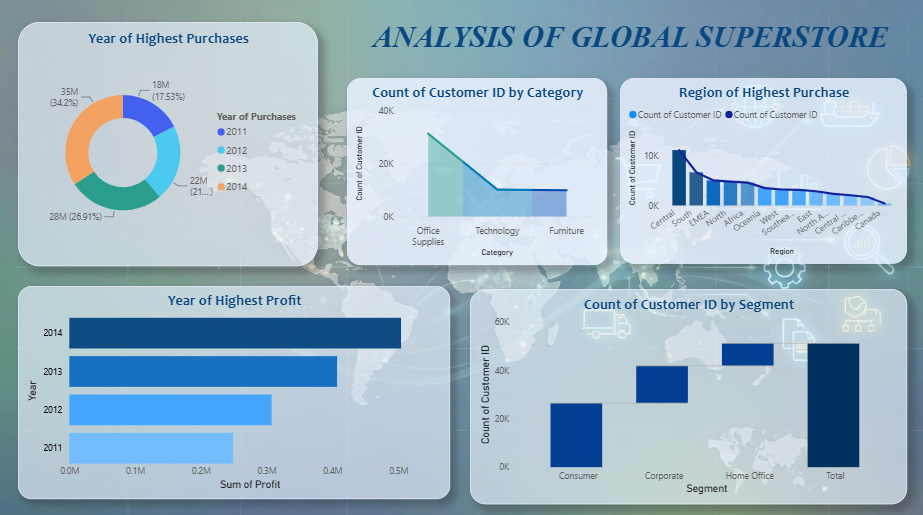

Layout of this report page (visuals, bound fields, positions):
{"tool":"powerbi","page":{"name":"Page 1","canvas":[1280,720],"ordinal":0},"visuals":[{"type":"donutChart","title":"Year of Highest Purchases","fields":{"Y":["Sum(Year_of_purchase(2011).Year)","Sum(Year_of_purchase (2012).Year)","Sum(Year_of_purchase (2013).Year)","Sum(Year_of_purchase (2014).Year)"]},"box":[24.9,37.4,415.1,337.6],"z":0},{"type":"lineStackedColumnComboChart","title":"Region of Highest Purchase","fields":{"Category":["Global Superstore_dataset.Region"],"Y":["CountNonNull(Global Superstore_dataset.Customer ID)"],"Y2":["CountNonNull(Global Superstore_dataset.Customer ID)"]},"box":[857.9,114.9,397.1,257.4],"z":1000},{"type":"areaChart","fields":{"Category":["Global Superstore_dataset.Category"],"Y":["CountNonNull(Global Superstore_dataset.Customer ID)"]},"box":[480,114.3,360,258.6],"z":2000},{"type":"clusteredBarChart","title":"Year of Highest Profit","fields":{"Y":["Sum(Global Superstore_dataset.Profit)"],"Category":["Global Superstore_dataset.Year"]},"box":[24.9,402.7,597.8,294.7],"z":3000},{"type":"waterfallChart","fields":{"Category":["Global Superstore_dataset.Segment"],"Y":["CountNonNull(Global Superstore_dataset.Customer ID)"]},"box":[650.4,406.8,604.7,297.5],"z":4000},{"type":"textbox","title":"ANALYSIS OF GLOBAL SUPERSTORE","box":[482.9,34.3,778.6,51.4],"z":5000}]}

Visuals, with their boxes in screenshot pixels (x1, y1, x2, y2), scaled from the page's 1280x720 canvas onto the 923x515 screenshot:
"Year of Highest Purchases" donutChart: x1=18 y1=27 x2=317 y2=268
"Region of Highest Purchase" lineStackedColumnComboChart: x1=619 y1=82 x2=905 y2=266
areaChart - Global Superstore_dataset.Category x CountNonNull(Global Superstore_dataset.Customer ID): x1=346 y1=82 x2=606 y2=267
"Year of Highest Profit" clusteredBarChart: x1=18 y1=288 x2=449 y2=499
waterfallChart - Global Superstore_dataset.Segment x CountNonNull(Global Superstore_dataset.Customer ID): x1=469 y1=291 x2=905 y2=504
"ANALYSIS OF GLOBAL SUPERSTORE" textbox: x1=348 y1=25 x2=910 y2=61
